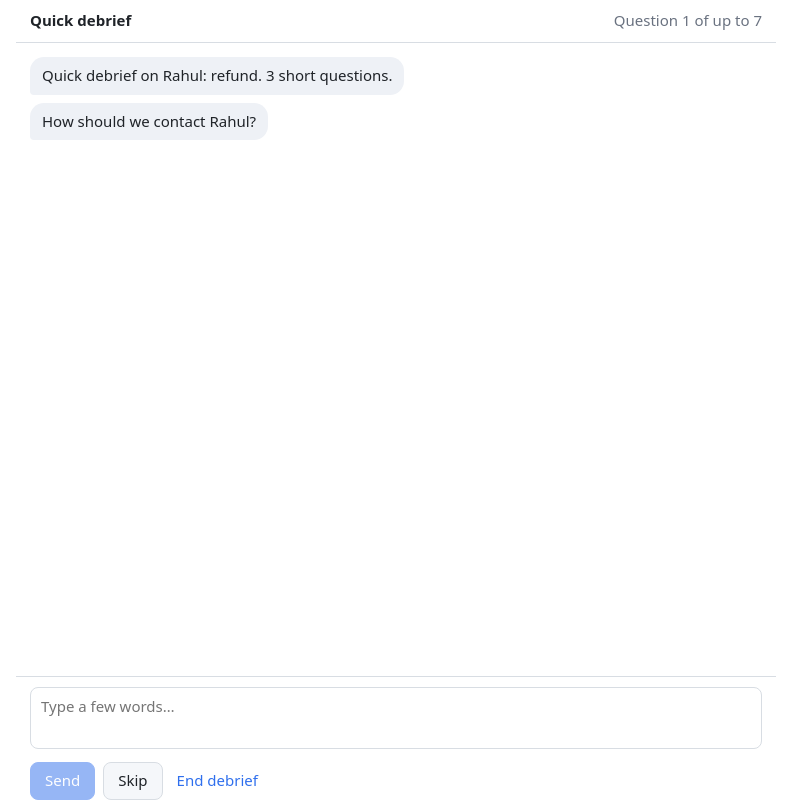
debrief conversation › sends the answer with the current question id, then shows the next question
The width and height of the screenshot is (793, 810).
Type "only whatsapp" into the text box named "Your answer". click: (396, 718)
box: [30,687,762,748]
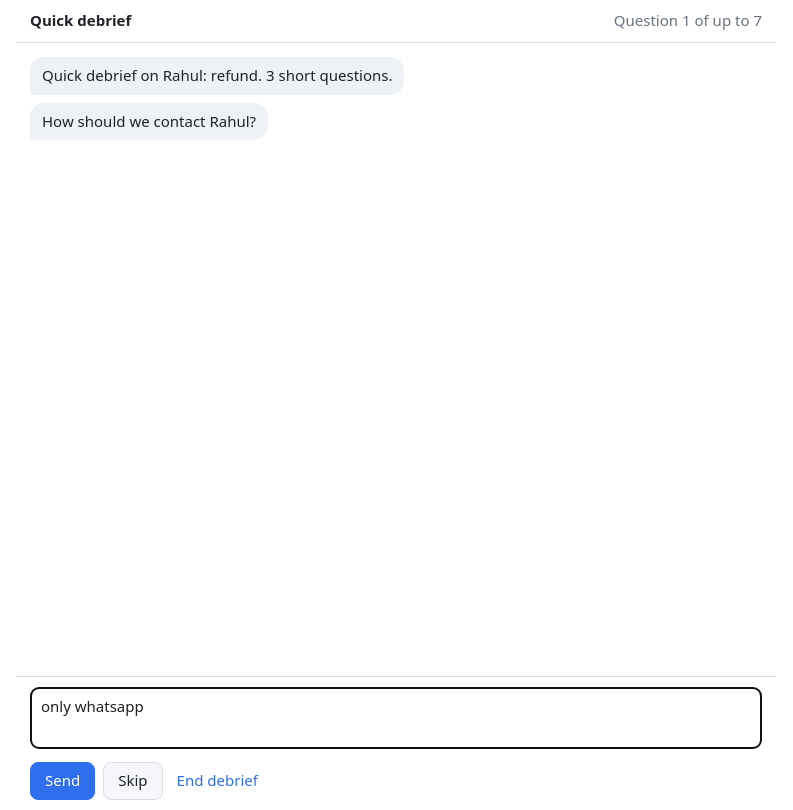
Click the button "Send". click: (63, 781)
box: [30,762,95,800]
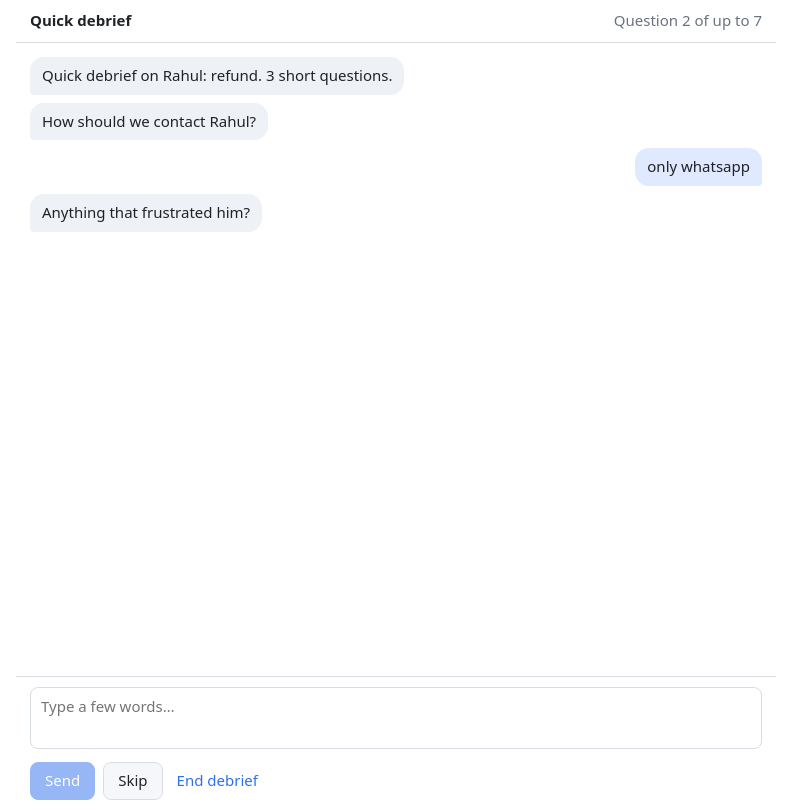
Now the text "Anything that frustrated him?" is shown, box [30,194,262,232]
Now the text box named "Your answer" is empty, box [30,687,762,748]
